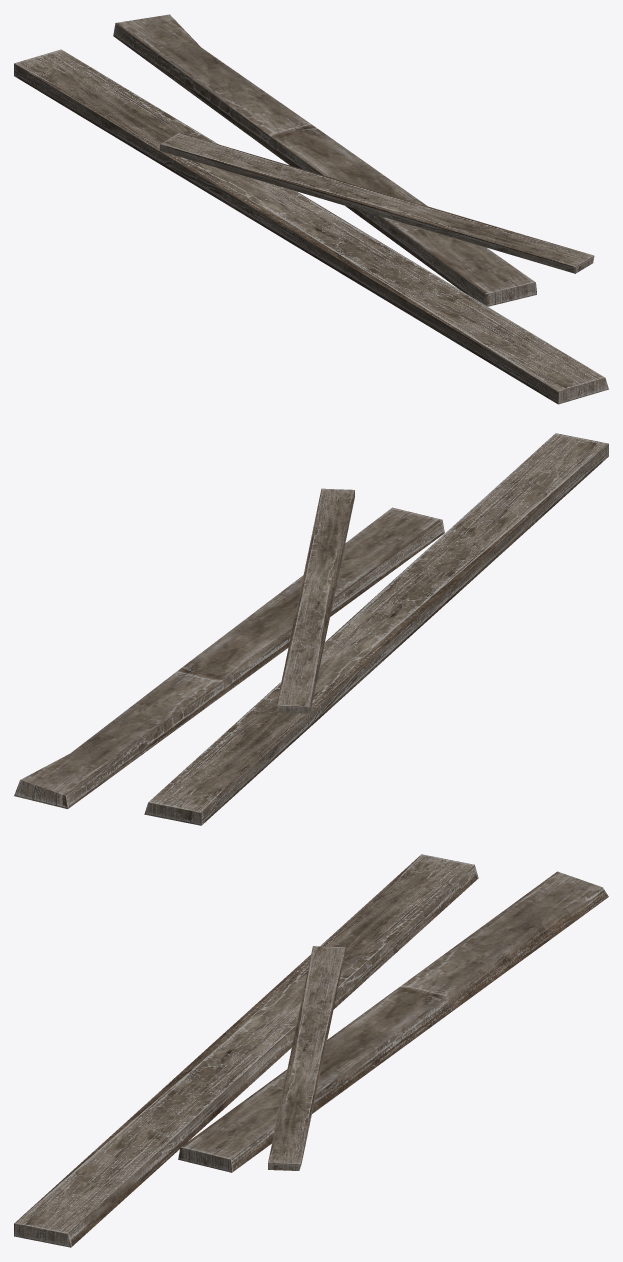
The model's file is SM_WoodPlank08.FBX.
3 renders of one model, top to bottom at view 1: azimuth 30°, elevation 25°; view 2: azimuth 150°, elevation 25°; view 3: azimuth 330°, elevation 25°, orthographic.
Parts seen in each view (by area): view 1: SM_WoodPlank08; view 2: SM_WoodPlank08; view 3: SM_WoodPlank08.
Part boxes in pixels (left/top/right/bottom): SM_WoodPlank08: left=14, top=14, right=608, bottom=404; SM_WoodPlank08: left=14, top=433, right=608, bottom=825; SM_WoodPlank08: left=14, top=854, right=608, bottom=1247.
Size of the model in its own units: 162 by 595 by 13.2.
